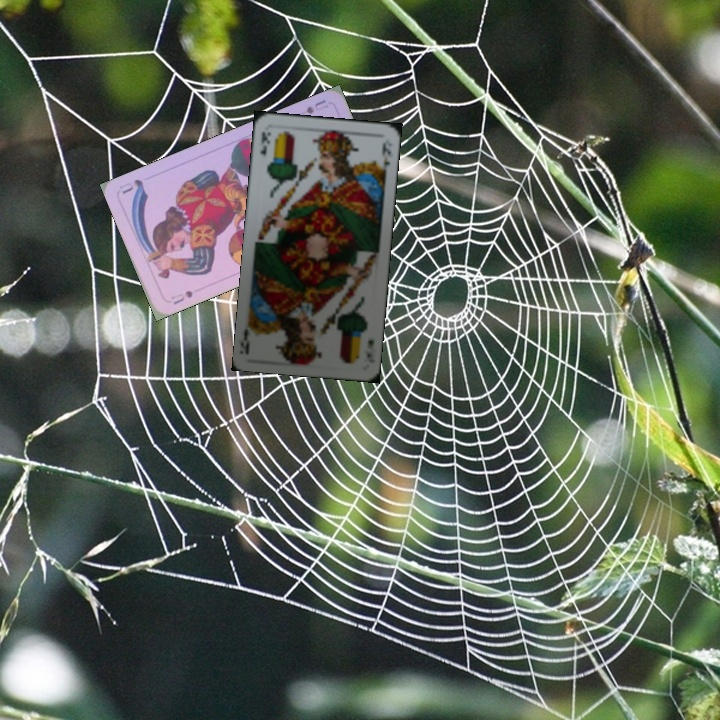EK: (256, 127, 274, 160), (363, 335, 378, 365)
SU: (167, 286, 195, 307), (302, 96, 331, 116)
